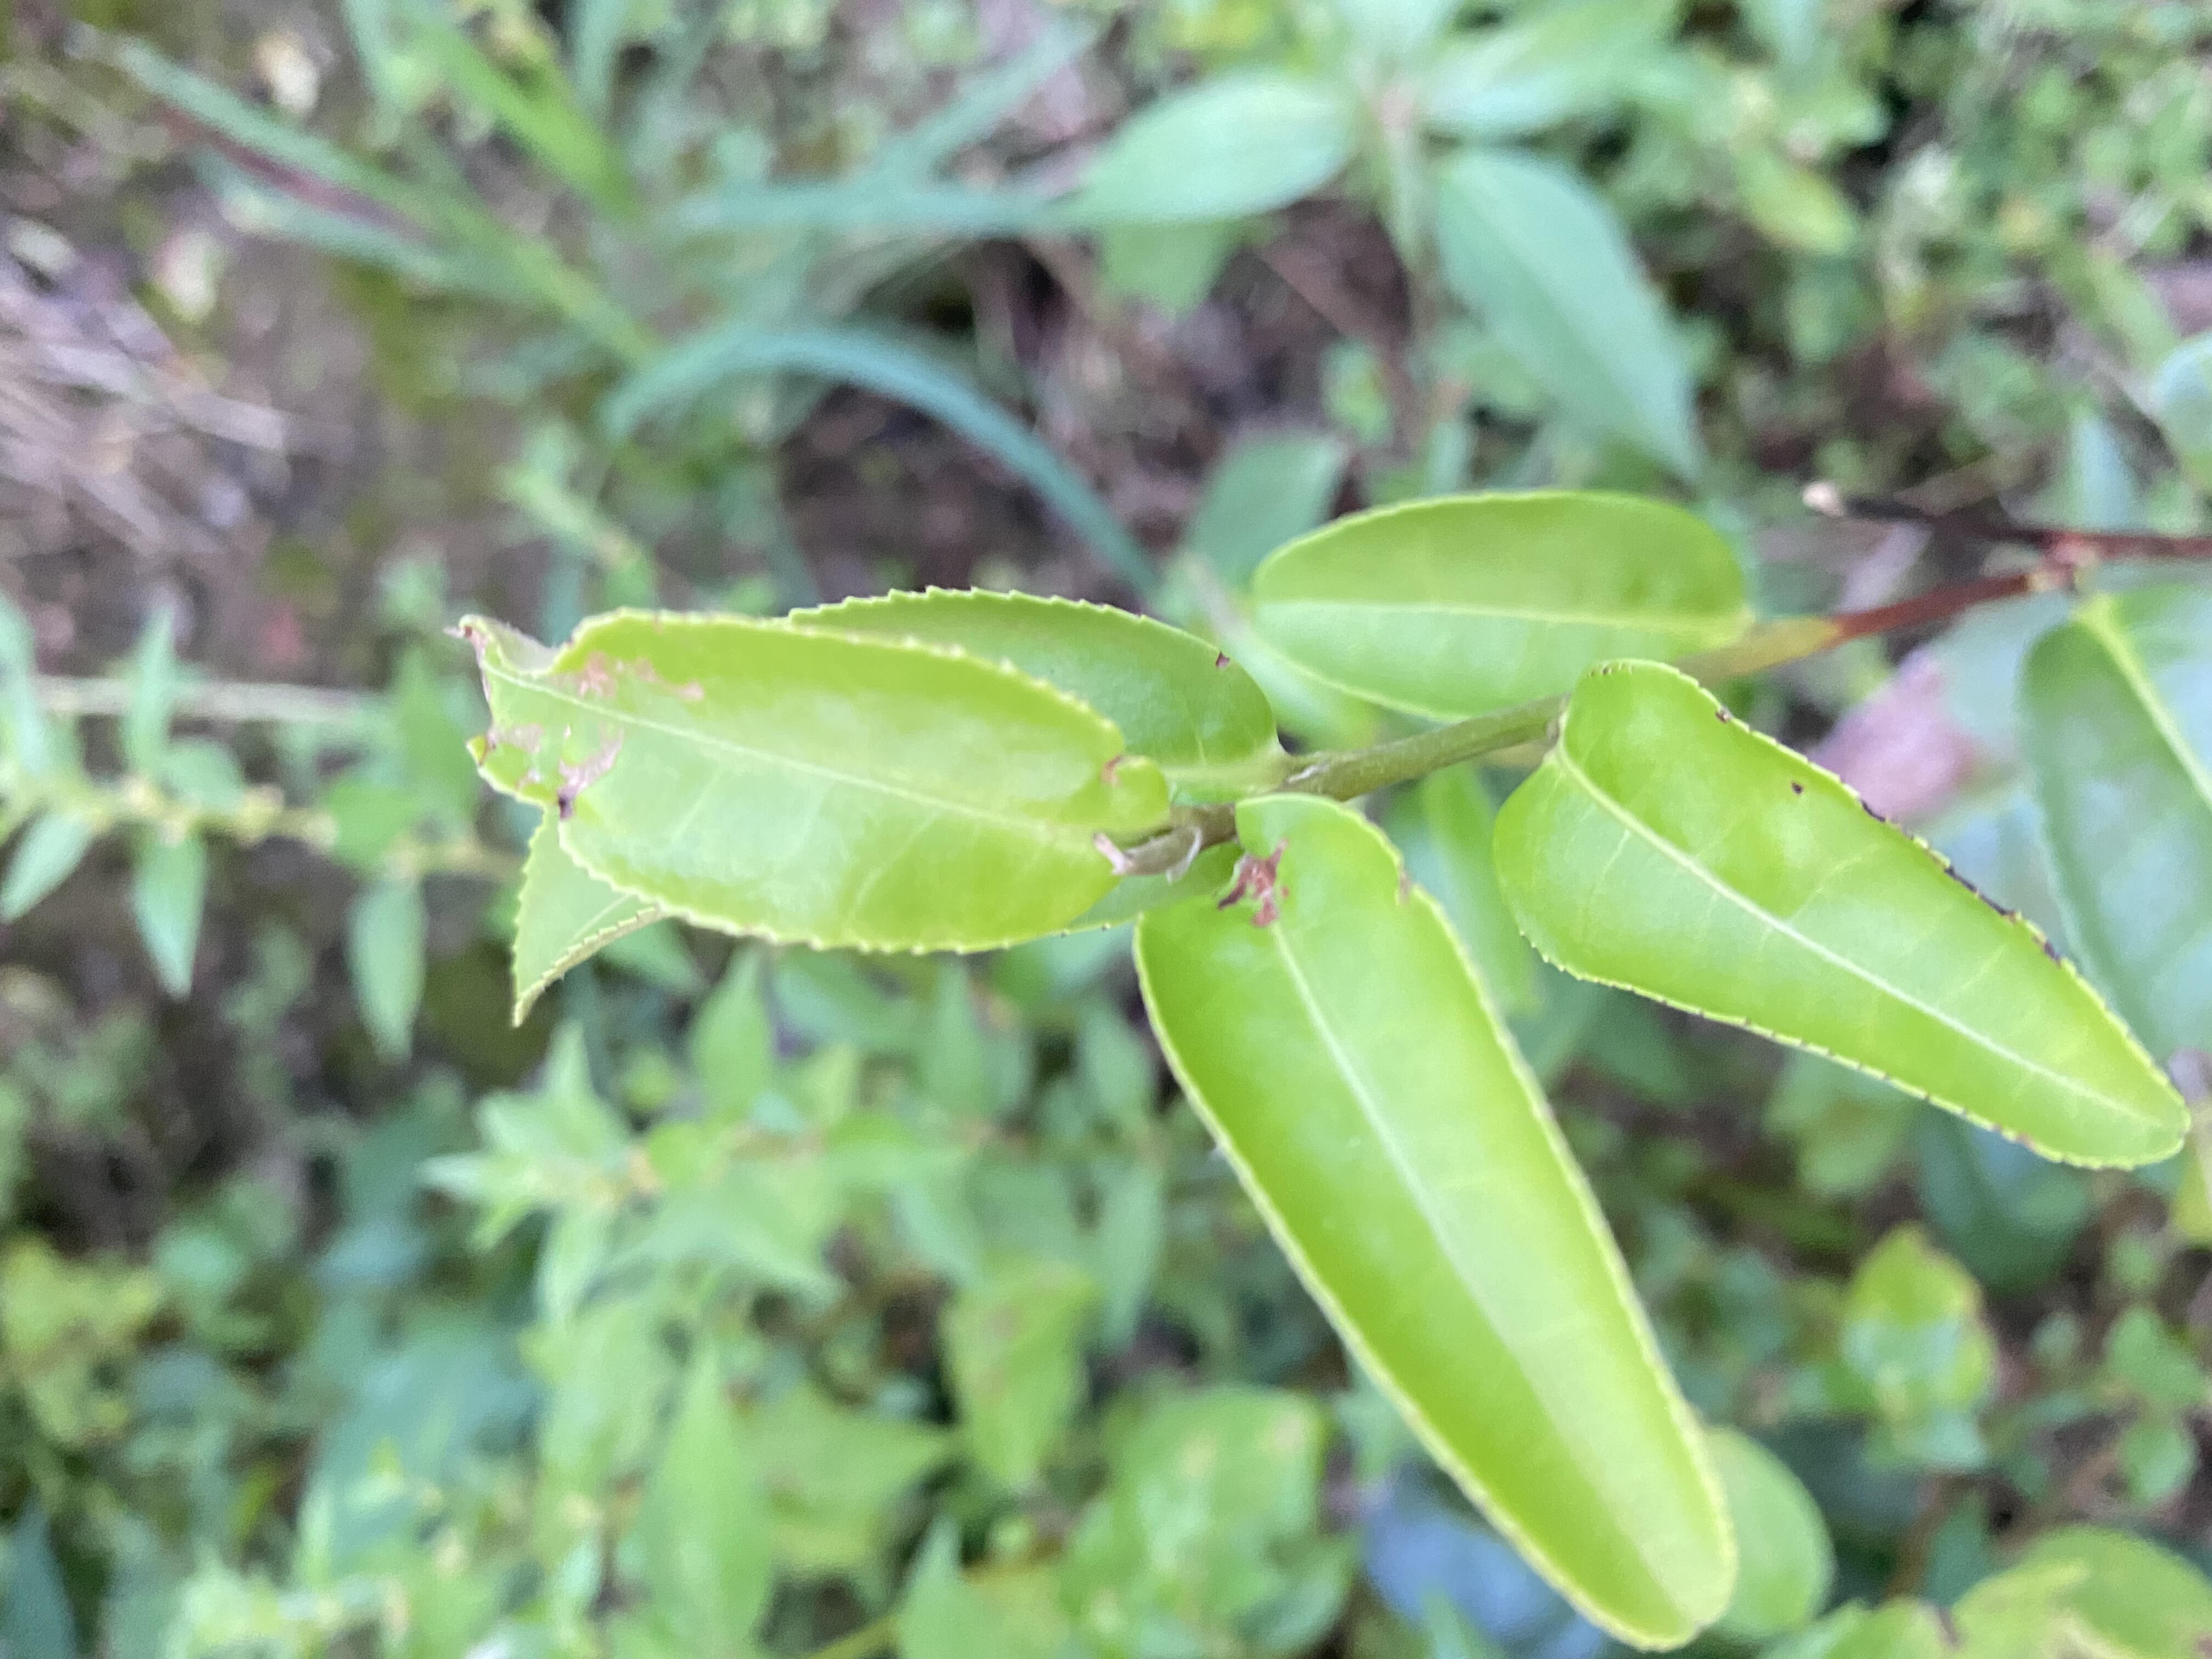healthy: (1251, 488, 1745, 718)
tanju_high: (1136, 791, 1728, 1649), (458, 603, 1170, 951)
tanju_low: (1486, 657, 2200, 1169)
